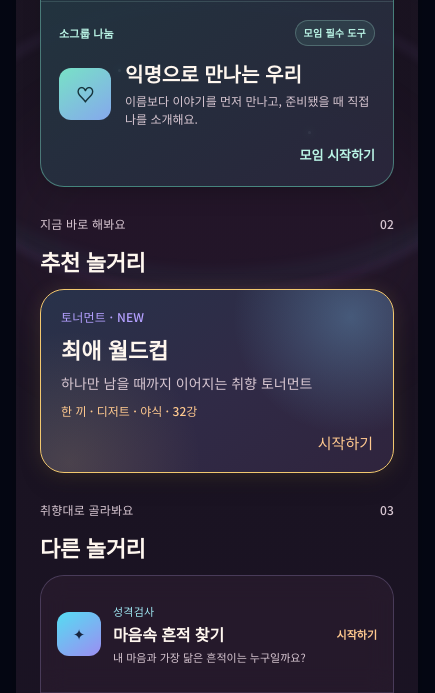
Scenario: 홈에서 콘텐츠로 이동할 때 › 지연 로딩 중에 추천 카드를 새로 렌더링하지 않는다
(page scrolled)
Expected: the element "추천 놀거리" is shown, [40,215,394,473]
Click the button with aria-label "최애 월드컵". click: (217, 381)
box: [40,289,394,473]
(page scrolled)
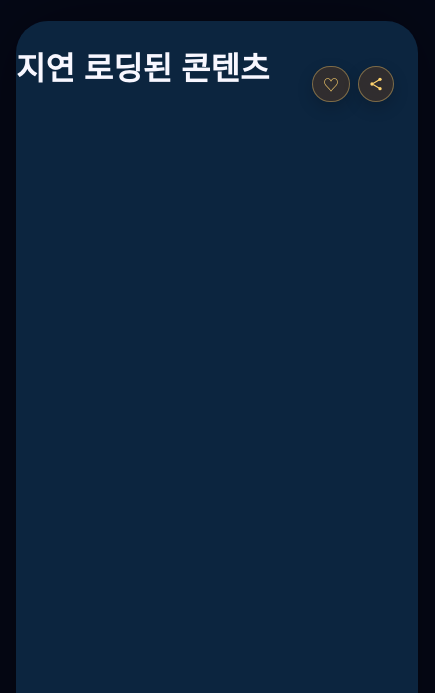
Result: the heading "지연 로딩된 콘텐츠" is shown at [16,43,270,89]
